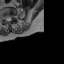CCS_severe_stenosis: (8, 16, 10, 23)
LFS_severe_stenosis: (11, 14, 13, 20)
LLS_normal: (10, 16, 11, 22)
RFS_stenosis: (4, 15, 6, 22)
RLS_normal: (6, 16, 8, 22)
